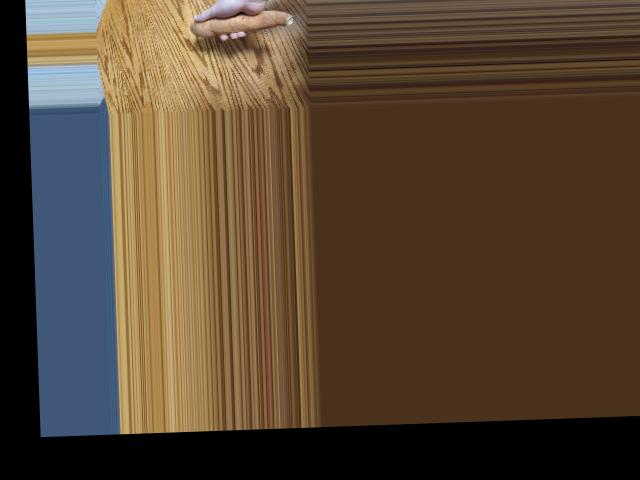sweet_potato: (188, 1, 296, 39)
